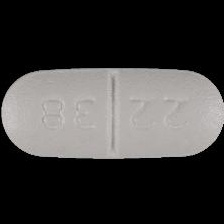0093-2238: (0, 0, 224, 224)
